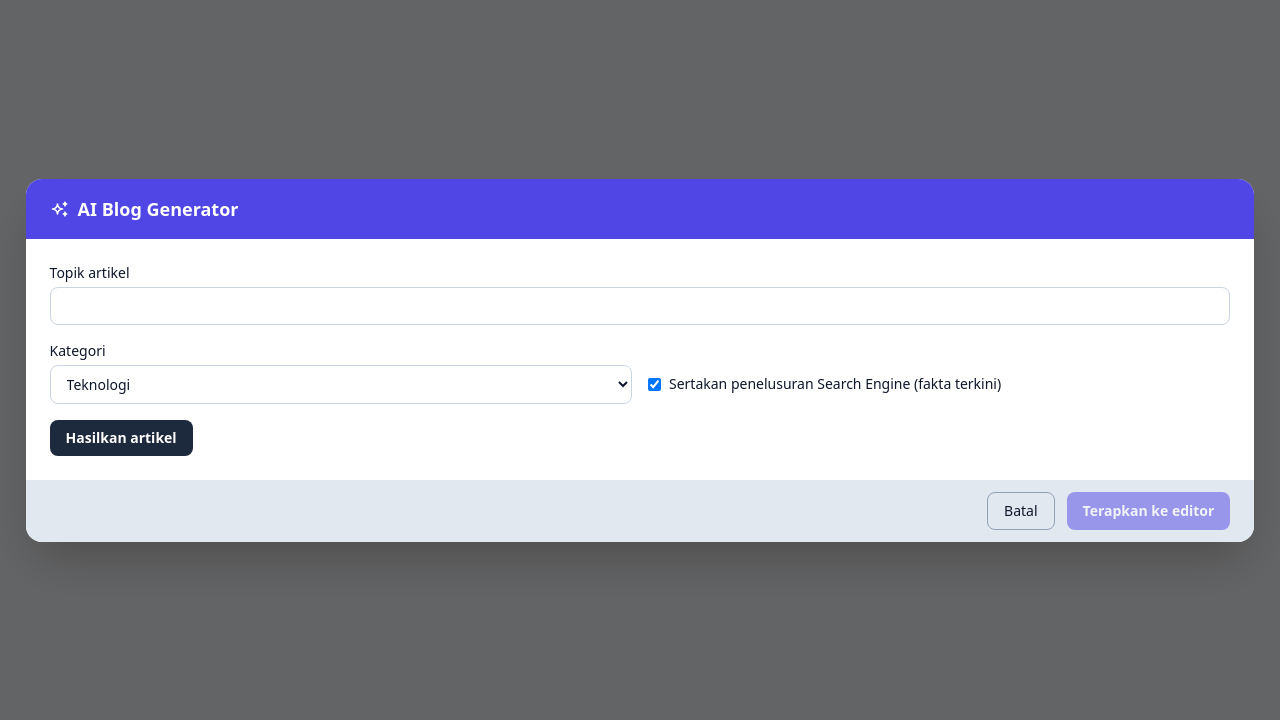
Test case: AiPostGeneratorModal › validasi topik kosong dan tombol terapkan nonaktif
The width and height of the screenshot is (1280, 720).
Expected: the button "Terapkan ke editor" is disabled, [1066,492,1230,530]
Click the button "Hasilkan artikel": {"x": 121, "y": 438} [50,420,193,456]
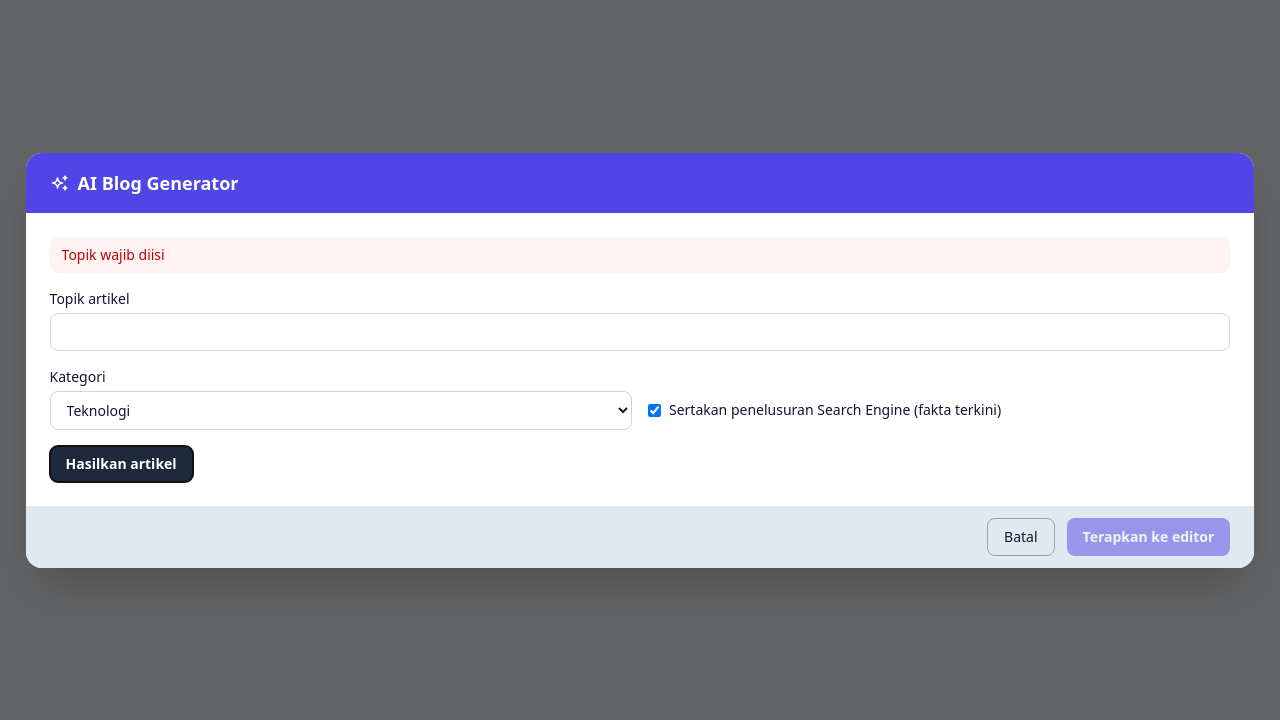
Now the message reads "Topik wajib diisi", box [62,244,165,264]
